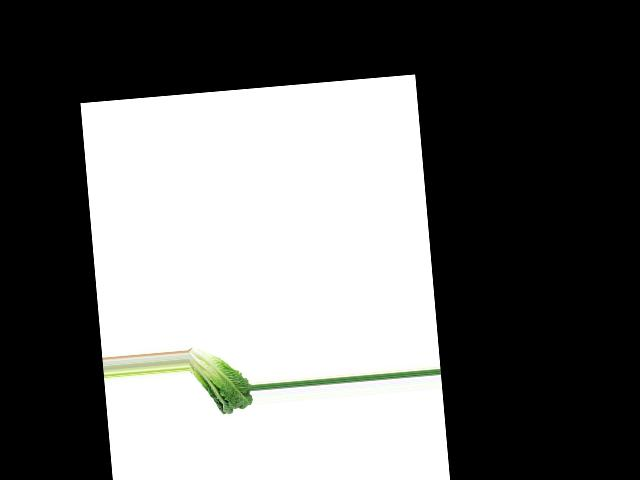lettuce: (187, 342, 253, 418)
